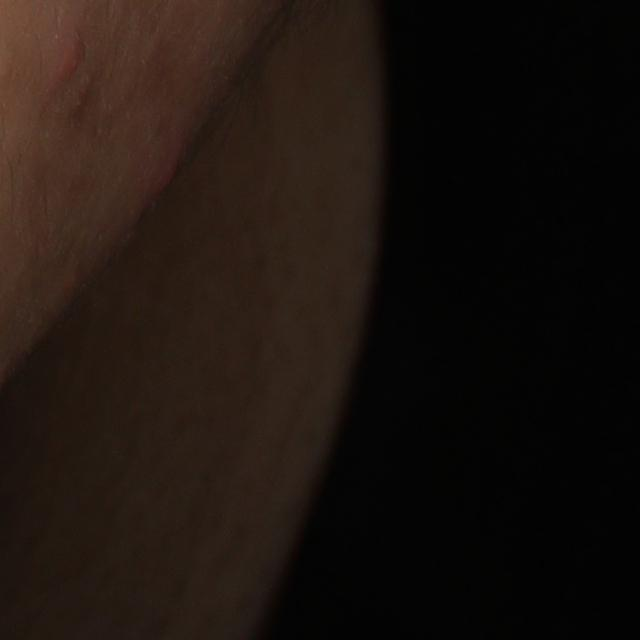papule: (40, 31, 91, 98), (142, 148, 182, 211)
